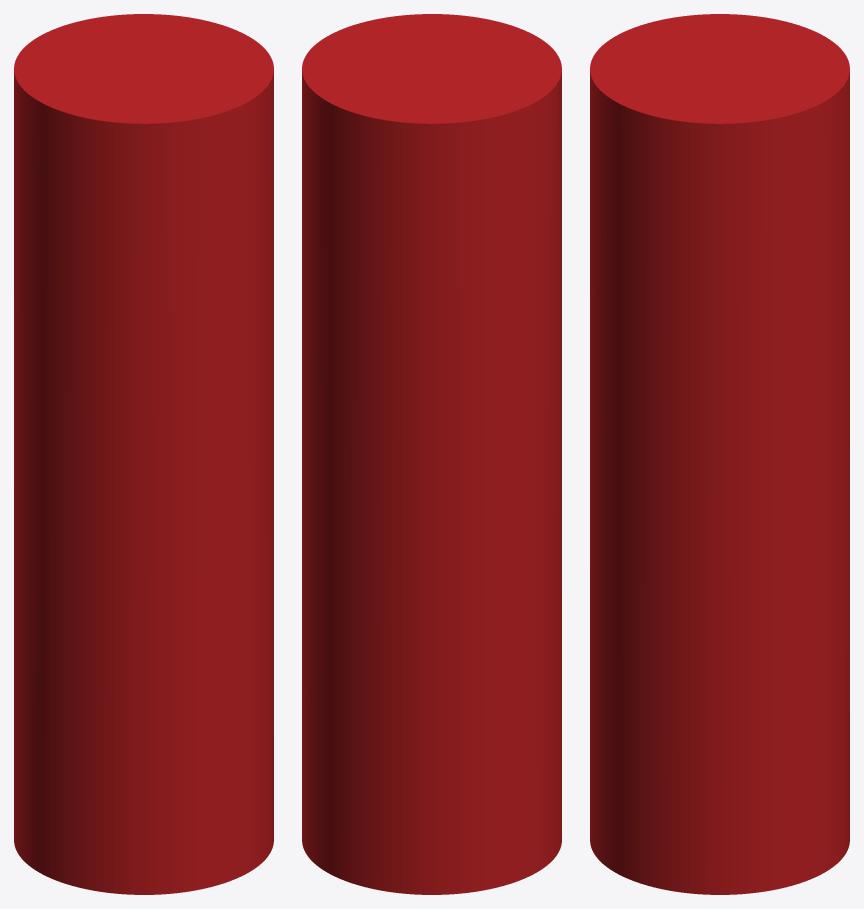
Rendered from jack_socket_red.glb.
3 renders of one model, left to right at view 1: azimuth 30°, elevation 25°; view 2: azimuth 150°, elevation 25°; view 3: azimuth 270°, elevation 25°, orthographic.
Size of the model in its own units: 0.011 by 0.036 by 0.011.
